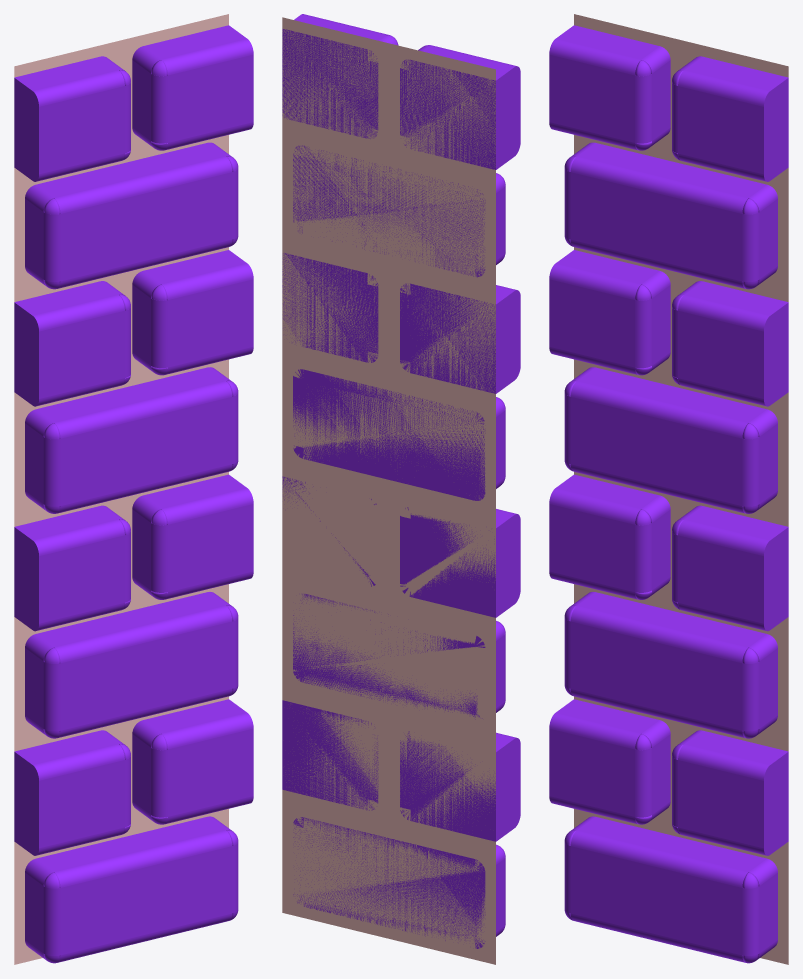
The model's file is wall_1.dae.
3 views of the same model, side by side, from view 1: azimuth 30°, elevation 25°; view 2: azimuth 150°, elevation 25°; view 3: azimuth 330°, elevation 25° (orthographic).
Parts seen in each view (by area): view 1: brick_half (×8), group_8 (×4), group_2 (×8), group_15 (×4), group_7 (×4), group_1 (×8), group_5 (×8), group_12 (×4), group_16 (×4), group_6 (×4); view 2: group_7 (×4), group_1 (×8), brick_half (×7), group_8 (×4); view 3: brick_half (×8), group_8 (×4), group_2 (×8), group_15 (×4), group_7 (×4), group_1 (×8), group_5 (×8), group_12 (×4), group_11 (×4), group_6 (×4).
Part boxes in pixels (x1=…): brick_half (×8): x1=14, y1=25, x2=253, y2=854; group_8 (×4): x1=25, y1=143, x2=232, y2=955; group_2 (×8): x1=33, y1=39, x2=253, y2=780; group_15 (×4): x1=54, y1=156, x2=232, y2=887; group_7 (×4): x1=14, y1=135, x2=228, y2=964; group_1 (×8): x1=14, y1=14, x2=228, y2=852; group_5 (×8): x1=33, y1=122, x2=253, y2=855; group_12 (×4): x1=58, y1=239, x2=232, y2=962; group_16 (×4): x1=43, y1=212, x2=60, y2=955; group_6 (×4): x1=151, y1=74, x2=167, y2=817; group_7 (×4): x1=282, y1=129, x2=495, y2=964; group_1 (×8): x1=282, y1=17, x2=495, y2=852; brick_half (×7): x1=282, y1=15, x2=520, y2=841; group_8 (×4): x1=293, y1=145, x2=503, y2=940; brick_half (×8): x1=549, y1=25, x2=788, y2=854; group_8 (×4): x1=570, y1=143, x2=777, y2=955; group_2 (×8): x1=549, y1=39, x2=769, y2=780; group_15 (×4): x1=570, y1=156, x2=748, y2=887; group_7 (×4): x1=574, y1=135, x2=788, y2=964; group_1 (×8): x1=574, y1=14, x2=788, y2=852; group_5 (×8): x1=549, y1=122, x2=769, y2=855; group_12 (×4): x1=570, y1=239, x2=744, y2=962; group_11 (×4): x1=742, y1=212, x2=759, y2=955; group_6 (×4): x1=635, y1=74, x2=651, y2=817.
Size of the model in its own units: 19.69 by 3.94 by 78.74.
